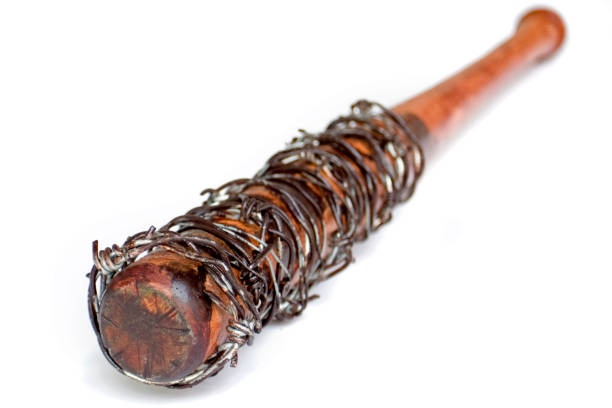bita: (90, 12, 556, 385)
